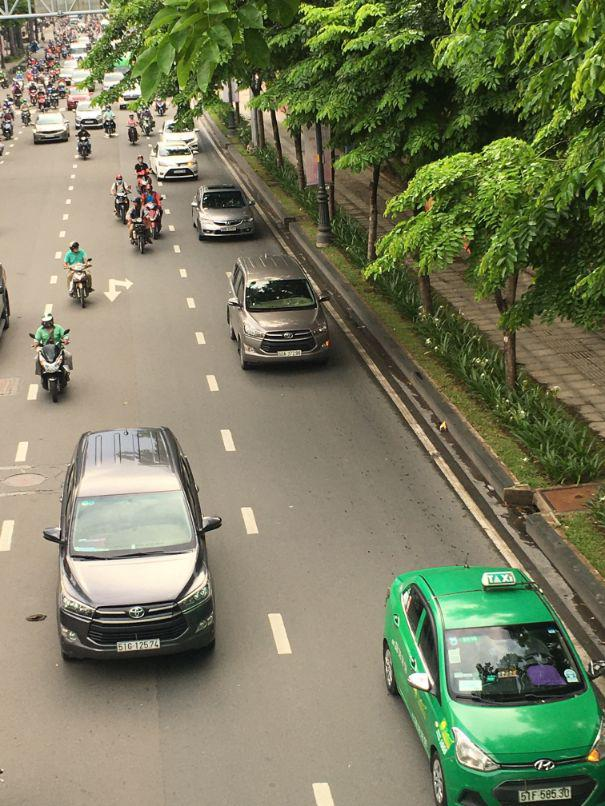car: (373, 565, 604, 804), (56, 425, 224, 662), (226, 254, 335, 372), (194, 183, 256, 241), (153, 131, 200, 183), (33, 112, 70, 144), (76, 101, 112, 129)
motorbike: (32, 339, 71, 402), (63, 259, 92, 308), (129, 221, 151, 254), (114, 193, 130, 221), (78, 135, 93, 162)
